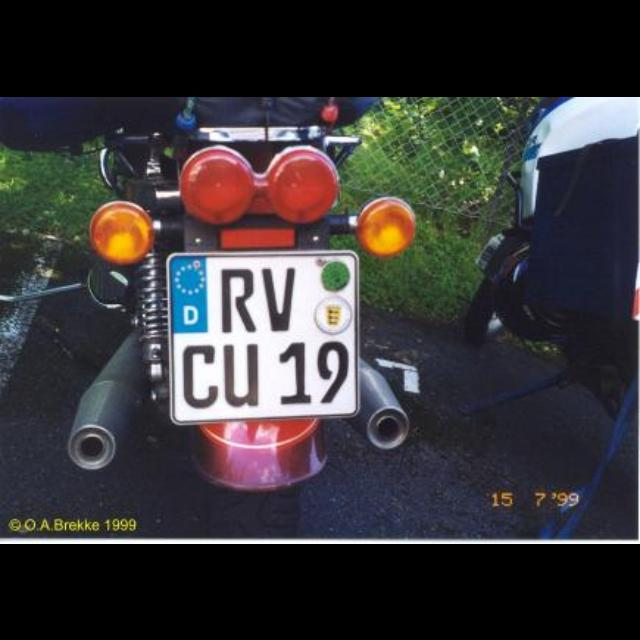d_license_plate: (167, 250, 356, 420)
